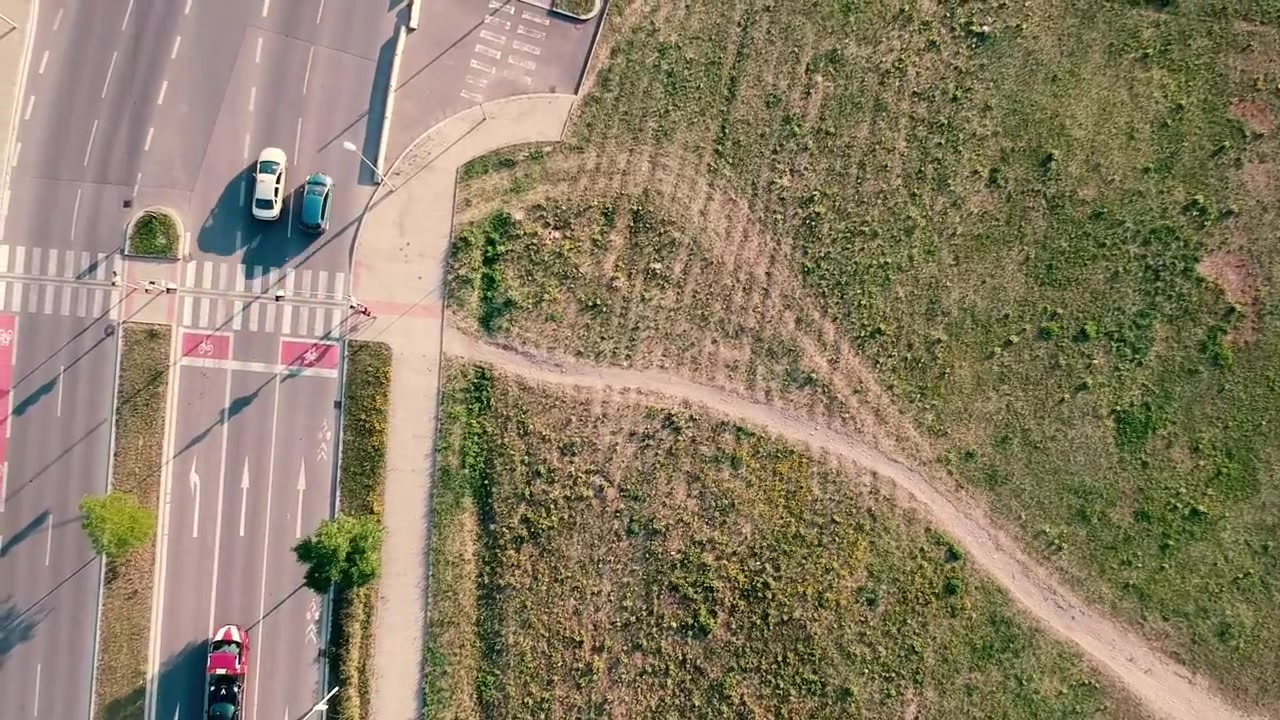car: (199, 622, 252, 720), (251, 145, 289, 222), (296, 171, 333, 234)
